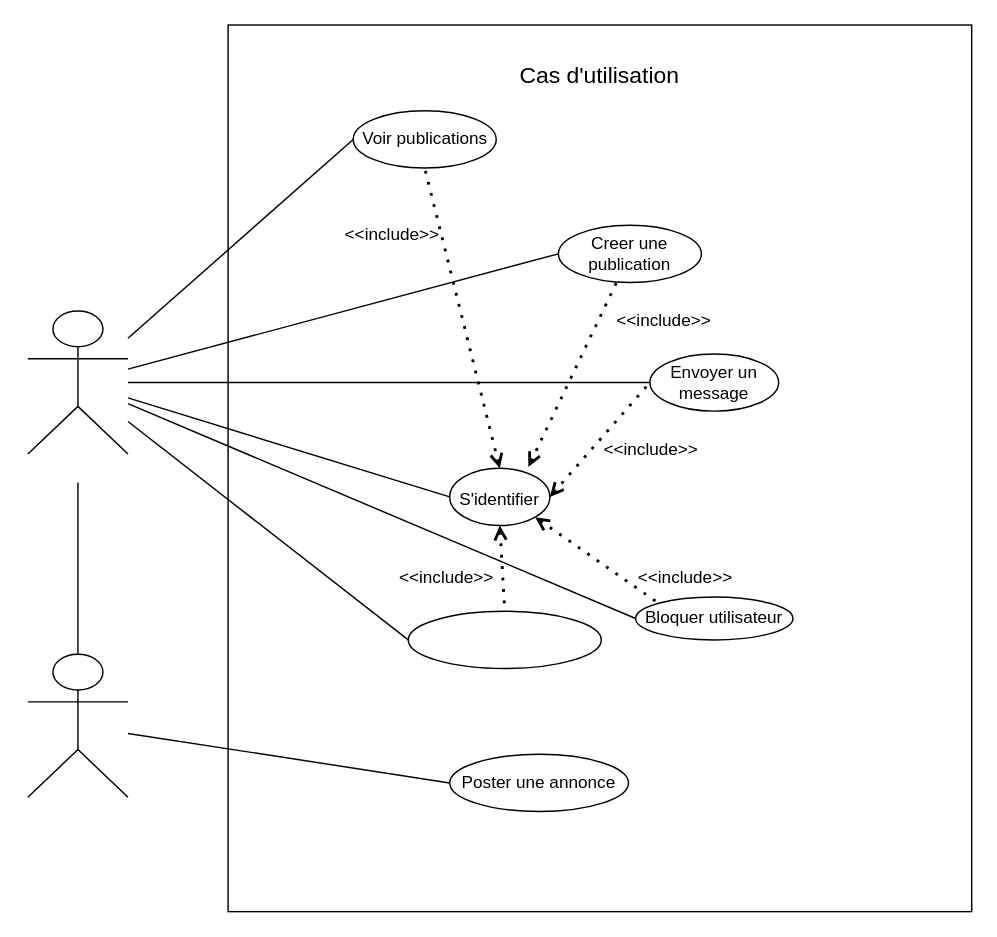
This 997x937 diagram has some shape labels left out. The shapes that lost their labels are listed below. From the top down, each one's box as (x1, y1, x2, y2) in pixels, then its label:
(26, 310, 128, 454): Utilisateur
(407, 610, 601, 669): Ajouter un contact
(26, 653, 128, 797): Utilisateur pro
